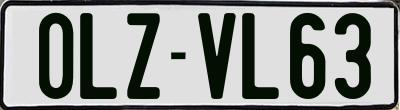0: (37, 13, 72, 102)
3: (333, 10, 373, 100)
6: (290, 11, 331, 98)
L: (79, 12, 121, 100), (241, 12, 279, 100)
V: (195, 11, 239, 102)
Z: (127, 12, 162, 104)
